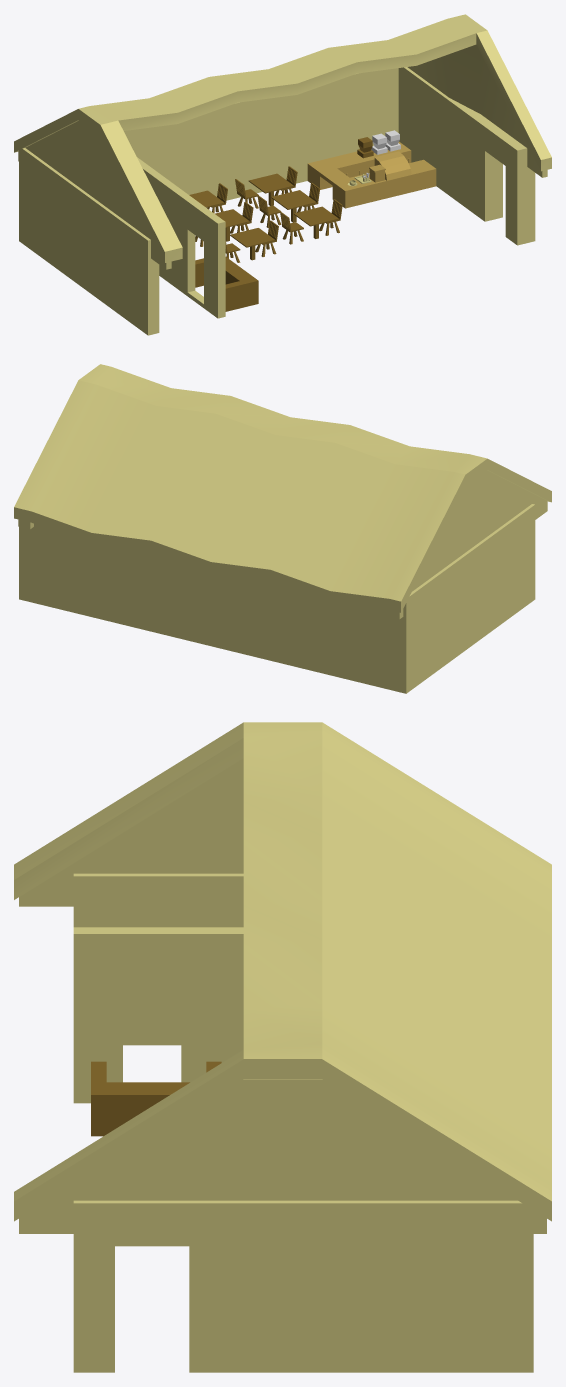
File: Cafe.fbx
3 views of the same model, one above another, from view 1: azimuth 30°, elevation 25°; view 2: azimuth 150°, elevation 25°; view 3: azimuth 270°, elevation 25° (orthographic). The views are drawn at different scales.
Visible parts, largest first — view 1: Cube.001, Cube.006, Cube.002, Cube.004, Plane.008, Plane.002, Plane.001, Plane.005, Plane.007; view 2: Cube.006, Cube.001; view 3: Cube.006, Cube.001, Cube.004.
Part boxes in pixels (left/top/right/bottom): Cube.001: left=19, top=67, right=535, bottom=335; Cube.006: left=14, top=14, right=551, bottom=269; Cube.002: left=307, top=141, right=436, bottom=208; Cube.004: left=195, top=257, right=258, bottom=311; Plane.008: left=230, top=228, right=275, bottom=260; Plane.002: left=294, top=206, right=338, bottom=238; Plane.001: left=271, top=190, right=316, bottom=222; Plane.005: left=248, top=173, right=293, bottom=206; Plane.007: left=215, top=209, right=249, bottom=241; Cube.006: left=14, top=364, right=551, bottom=619; Cube.001: left=19, top=504, right=535, bottom=693; Cube.006: left=14, top=722, right=551, bottom=1233; Cube.001: left=73, top=873, right=533, bottom=1372; Cube.004: left=91, top=1061, right=221, bottom=1136.
Bounding box in the file's own units: 1494 × 648 × 1008.
